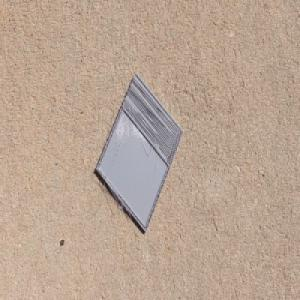PlasticPart: (94, 72, 185, 235)
